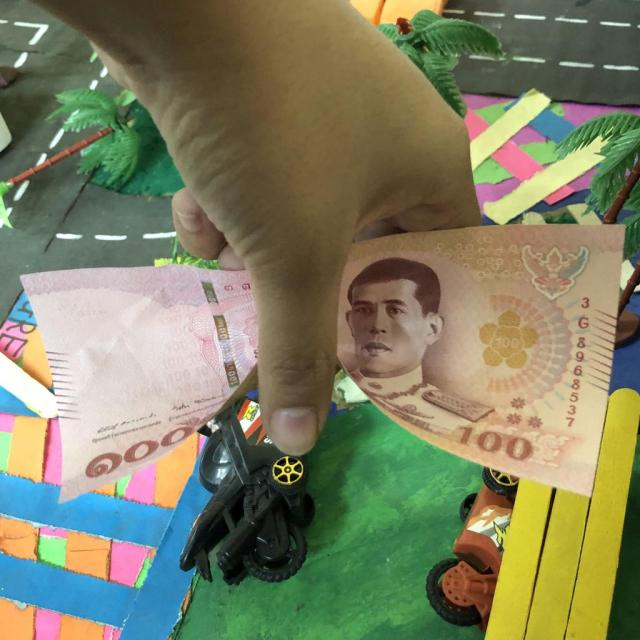THAI100: (338, 225, 624, 495), (21, 265, 258, 501)
